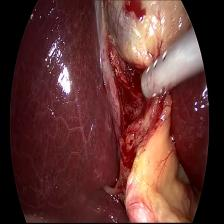Irrigator: (140, 30, 200, 104)
